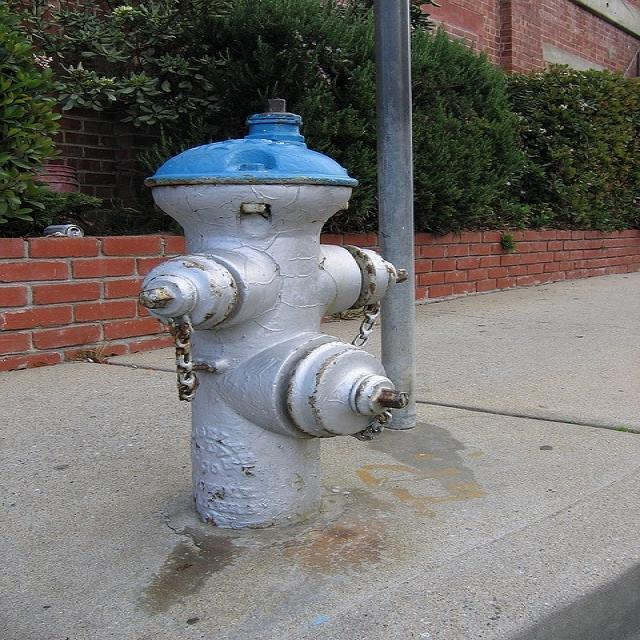fire_hydrant: (103, 95, 459, 556)
